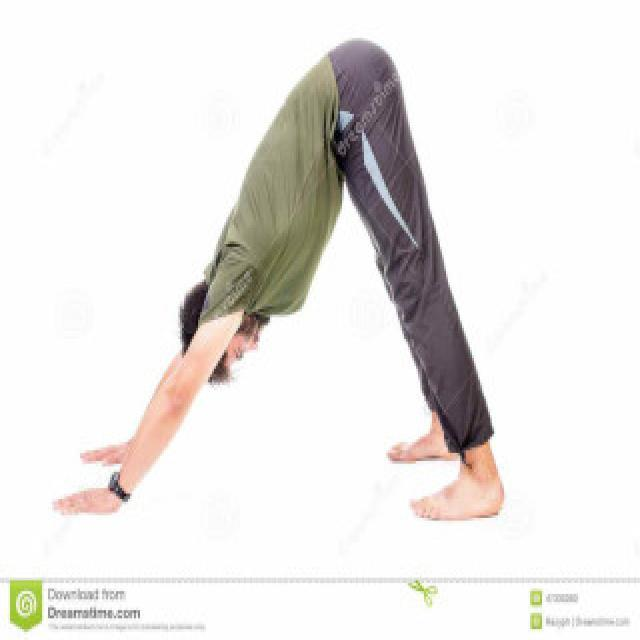yoga-pose downward: (54, 31, 510, 522)
